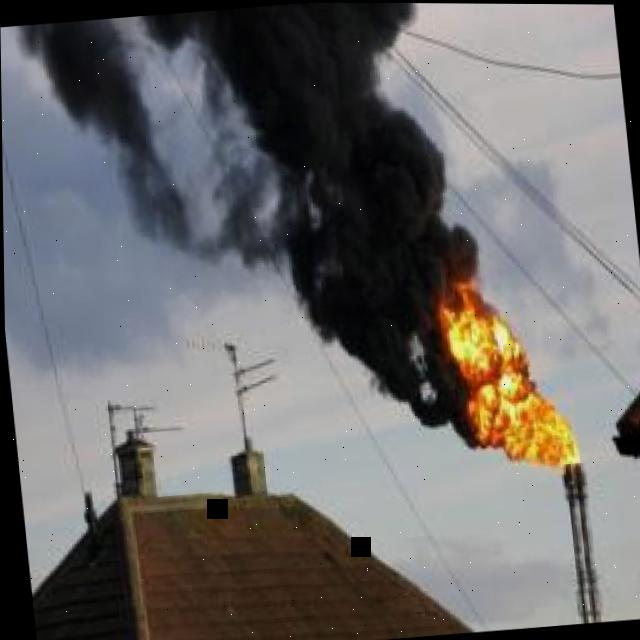fire: (442, 298, 579, 462)
smoke: (140, 2, 491, 448), (18, 18, 194, 250)
